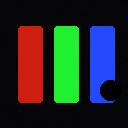2 circle: (100, 80, 120, 100)
